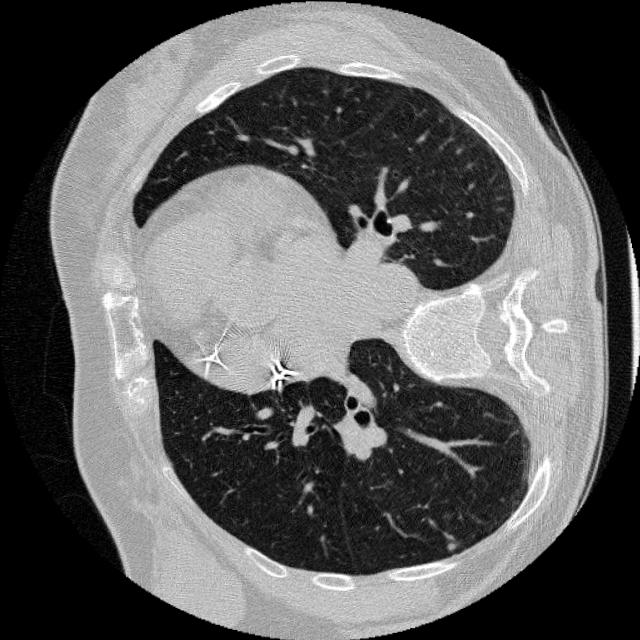nodule: (440, 538, 460, 558)
